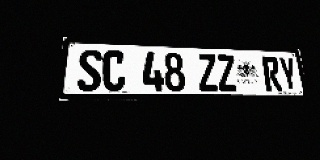4: (142, 52, 164, 91)
8: (164, 52, 186, 91)
C: (102, 50, 125, 91)
R: (261, 56, 283, 91)
S: (77, 49, 102, 91)
Y: (278, 57, 299, 91)
Z: (197, 54, 219, 91), (216, 54, 238, 91)
